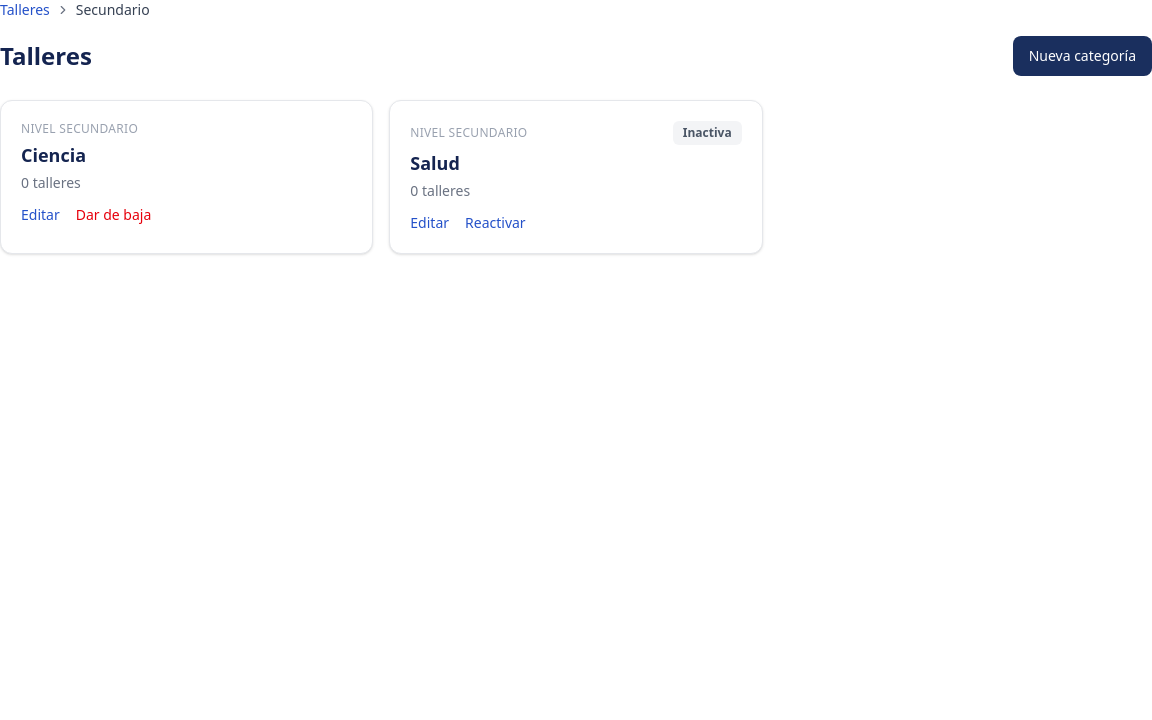
Test: CategoriasPage: errores al actualizar › si la baja falla muestra un aviso (alert) y la categoría sigue activa
Expected: the link "Ciencia" is shown, [21,143,86,167]
Click the button "Dar de baja" at (114, 215), box [76,205,151,225]
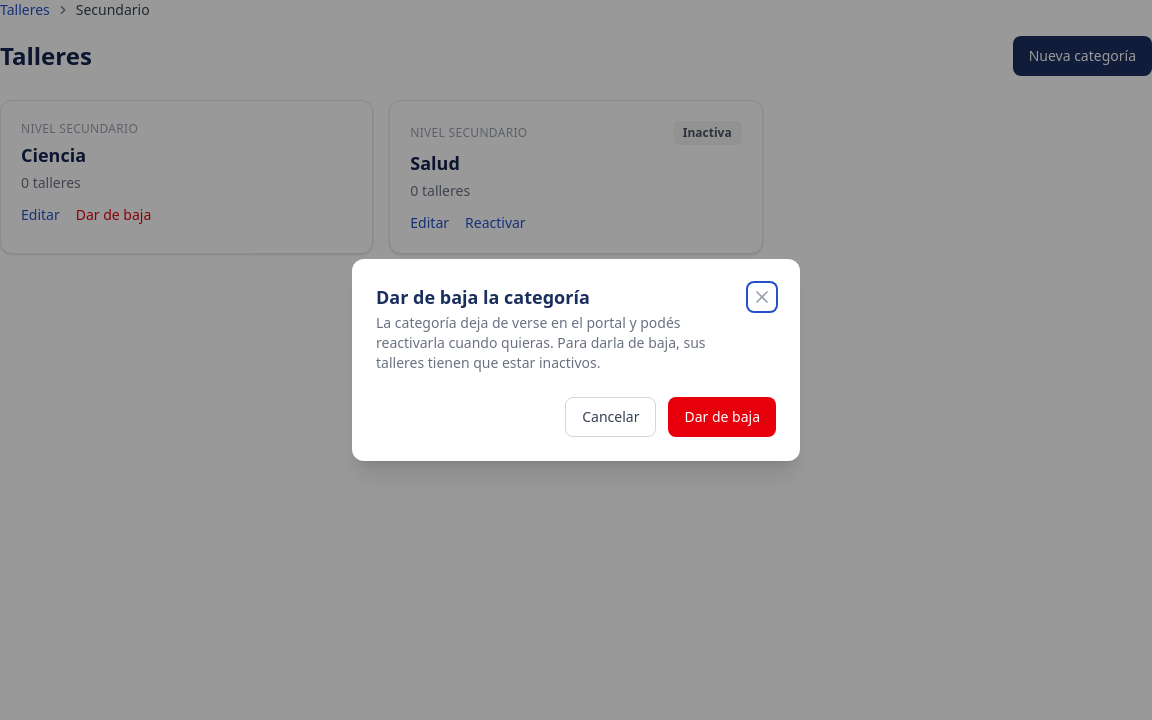
Click the button "Dar de baja" at (722, 417), box [668,397,776,437]
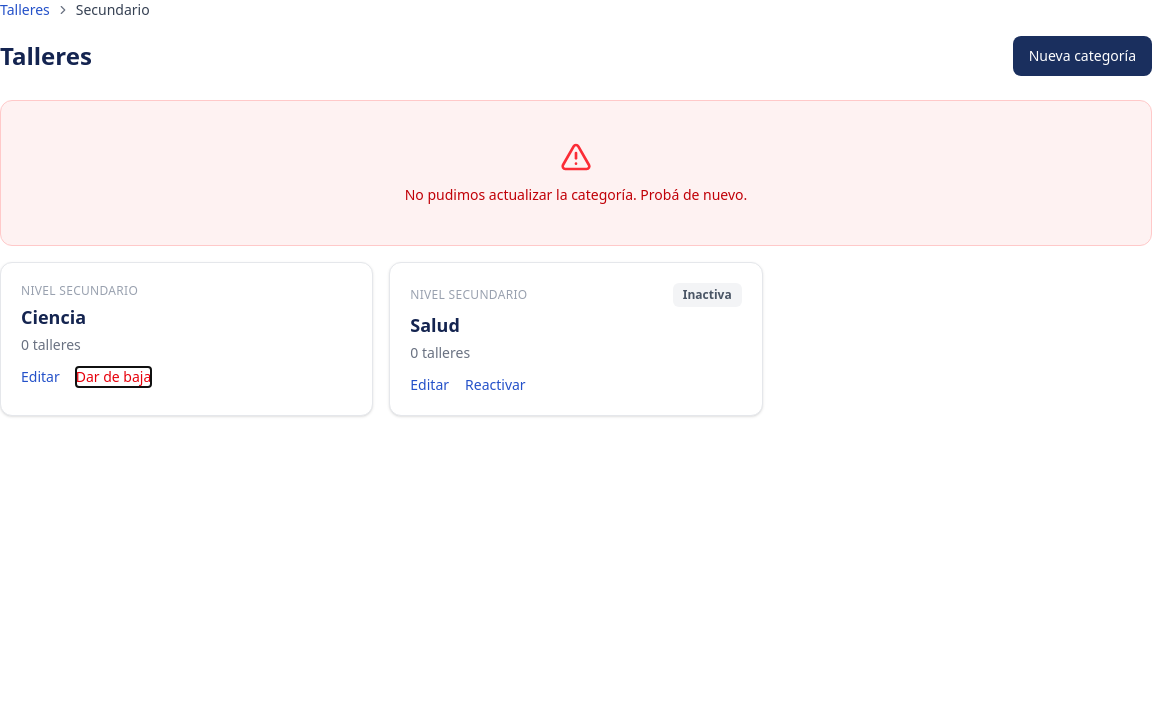
Result: the message shows "No pudimos" at [405,185,747,204]
